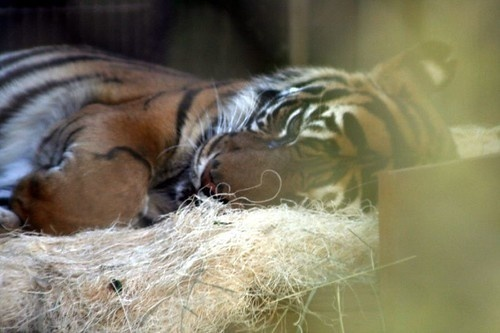tigre: (1, 33, 473, 236)
